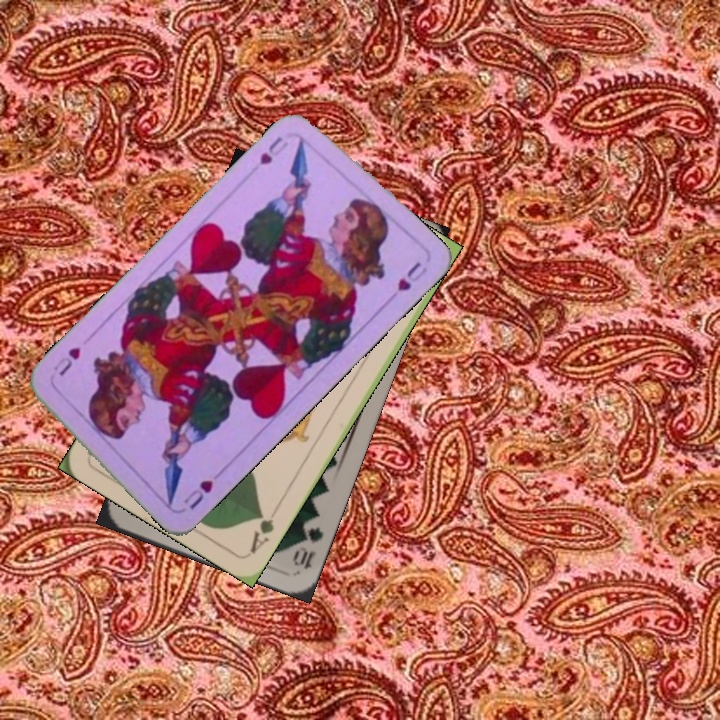G10: (288, 522, 327, 572)
GA: (246, 502, 281, 557)
HU: (179, 466, 226, 512), (255, 132, 292, 168)
